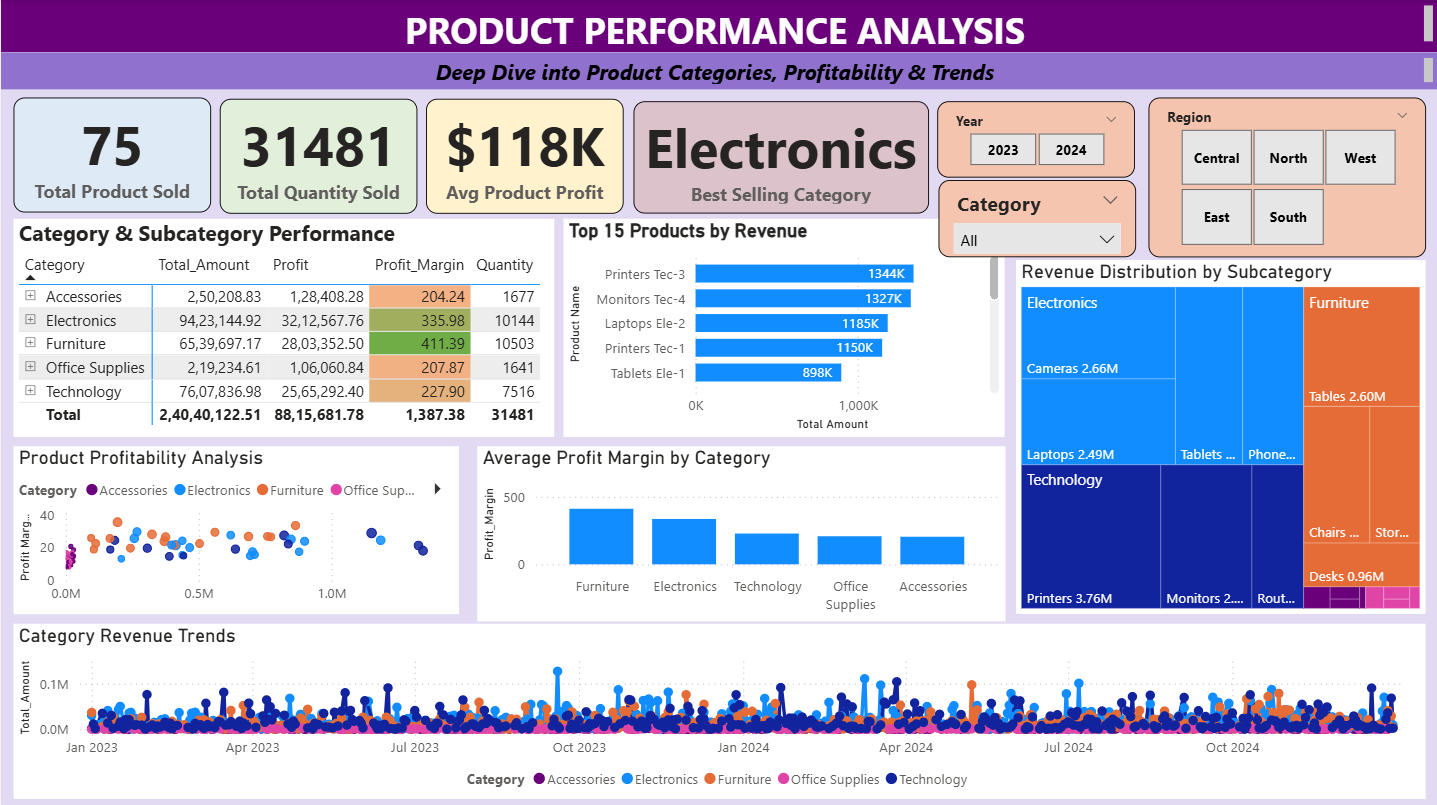

The dashboard page shown, as its layout file describes it:
{"tool":"powerbi","page":{"name":"Product Analysis","canvas":[1280,720],"ordinal":1},"visuals":[{"type":"textbox","box":[0,0,1280.3,46.5],"z":0},{"type":"textbox","box":[0,46.5,1280.3,33],"z":1000},{"type":"slicer","fields":{"Values":["DateTable.Year"]},"box":[834,89.7,176.3,68],"z":2000},{"type":"slicer","fields":{"Values":["Sales_Transactions.Region"]},"box":[1021.6,86.6,247.4,142.3],"z":3000},{"type":"card","fields":{"Values":["_Measure.Total Quantity"]},"box":[194.8,87.6,176.3,102.1],"z":5000},{"type":"card","fields":{"Values":["_Measure.Total Product Sold"]},"box":[11.3,86.6,176.3,102.1],"z":6000},{"type":"card","fields":{"Values":["_Measure.Avg Product Profit"]},"box":[378.4,87.6,176.3,102.1],"z":7000},{"type":"card","fields":{"Values":["_Measure.Best Selling Category"]},"box":[562.9,89.7,262.9,100],"z":8000},{"type":"clusteredBarChart","title":"Top 15 Products by Revenue","fields":{"Category":["Sales_Transactions.Product_Name"],"Y":["Sum(Sales_Transactions.Total_Amount)"]},"box":[501.4,194.4,393,194.4],"z":8500},{"type":"pivotTable","title":"Category & Subcategory Performance","fields":{"Rows":["Sales_Transactions.Category","Sales_Transactions.Subcategory"],"Values":["Sum(Sales_Transactions.Total_Amount)","Sum(Sales_Transactions.Profit)","Sum(Sales_Transactions.Profit_Margin)","Sum(Sales_Transactions.Quantity)"]},"box":[11.3,194.4,481.7,194.4],"z":9000},{"type":"scatterChart","title":"Product Profitability Analysis","fields":{"X":["Sum(Sales_Transactions.Total_Amount)"],"Y":["Sum(Sales_Transactions.Profit_Margin)"],"Series":["Sales_Transactions.Category"],"Size":["Sum(Sales_Transactions.Quantity)"],"Category":["Sales_Transactions.Product_Name"]},"box":[11.3,397.2,397.2,149.3],"z":11000},{"type":"lineChart","title":"Category Revenue Trends","fields":{"Category":["DateTable.Date"],"Y":["Sum(Sales_Transactions.Total_Amount)"],"Series":["Sales_Transactions.Category"]},"box":[11.3,554.9,1257.7,156.3],"z":12000},{"type":"treemap","title":"Revenue Distribution by Subcategory","fields":{"Group":["Sales_Transactions.Category"],"Details":["Sales_Transactions.Subcategory"],"Values":["Sum(Sales_Transactions.Total_Amount)"]},"box":[904.2,231,364.8,315.5],"z":13000},{"type":"clusteredColumnChart","title":"Average Profit Margin by Category","fields":{"Category":["Sales_Transactions.Category"],"Y":["Sum(Sales_Transactions.Profit_Margin)"]},"box":[423.9,397.2,470.4,156.3],"z":14000},{"type":"slicer","fields":{"Values":["Sales_Transactions.Category"]},"box":[835.1,159.8,176.3,69.1],"z":14500}]}

Visuals, with their boxes in screenshot pixels (x1, y1, x2, y2), scaled from the page's 1280x720 canvas onto the 1437x805 screenshot:
textbox: <box>0,0,1436,52</box>
textbox: <box>0,52,1436,89</box>
slicer - DateTable.Year: <box>936,100,1134,176</box>
slicer - Sales_Transactions.Region: <box>1147,97,1425,256</box>
card - _Measure.Total Quantity: <box>219,98,417,212</box>
card - _Measure.Total Product Sold: <box>13,97,211,211</box>
card - _Measure.Avg Product Profit: <box>425,98,623,212</box>
card - _Measure.Best Selling Category: <box>632,100,927,212</box>
"Top 15 Products by Revenue" clusteredBarChart: <box>563,217,1004,435</box>
"Category & Subcategory Performance" pivotTable: <box>13,217,553,435</box>
"Product Profitability Analysis" scatterChart: <box>13,444,459,611</box>
"Category Revenue Trends" lineChart: <box>13,620,1425,795</box>
"Revenue Distribution by Subcategory" treemap: <box>1015,258,1425,611</box>
"Average Profit Margin by Category" clusteredColumnChart: <box>476,444,1004,619</box>
slicer - Sales_Transactions.Category: <box>938,179,1135,256</box>
